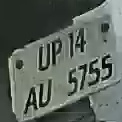1: (66, 30, 76, 60)
4: (74, 26, 89, 56)
5: (86, 57, 101, 85), (99, 53, 114, 80), (67, 66, 78, 96)
7: (78, 63, 88, 91)
A: (25, 85, 38, 114)
P: (49, 38, 62, 66)
U: (38, 80, 53, 109), (36, 42, 50, 72)
